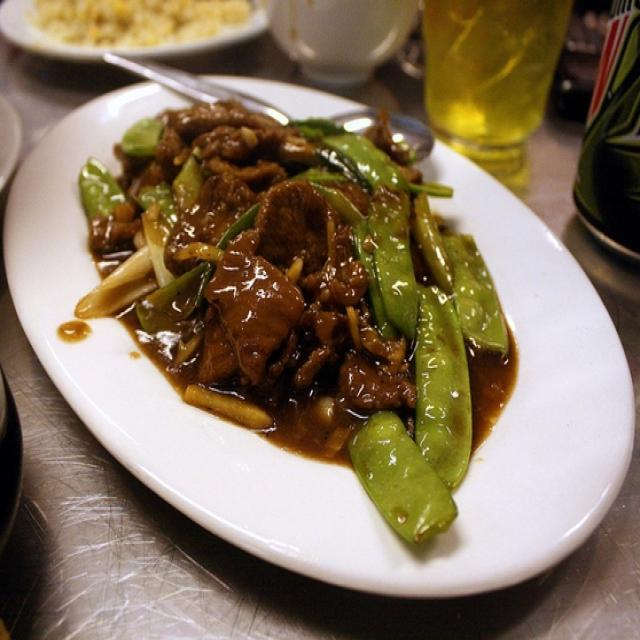牛肉菜式: (41, 44, 576, 583)
